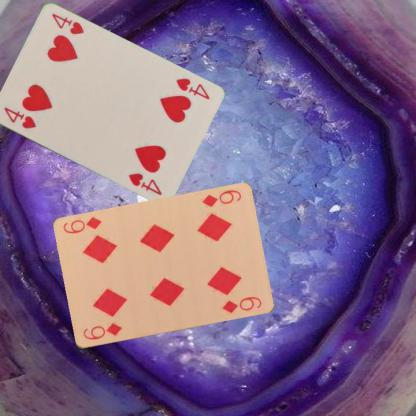4h: (0, 104, 38, 130), (173, 76, 211, 101)
6d: (199, 187, 243, 210), (80, 320, 123, 341)
